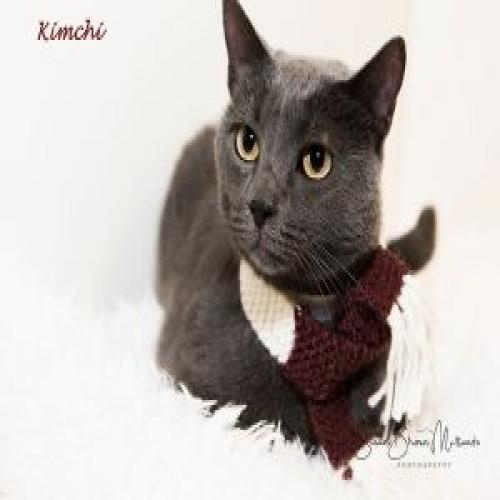rblue: (208, 1, 416, 292)
